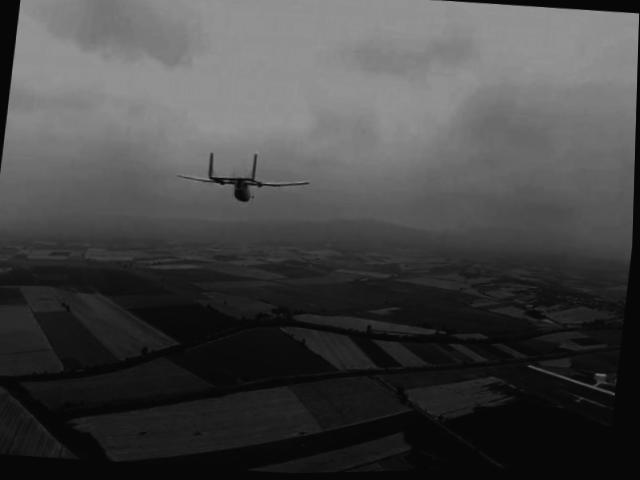hedef: (170, 136, 316, 228)
